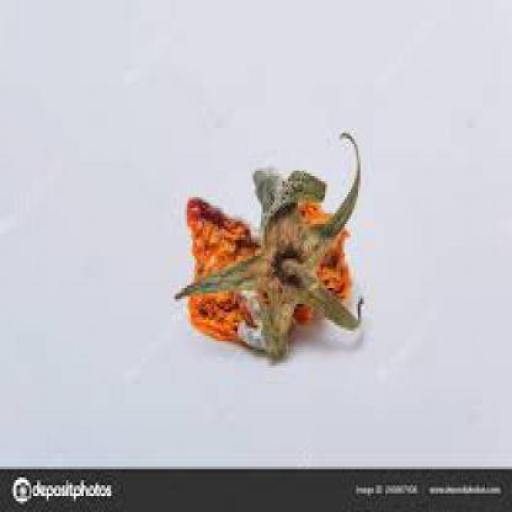biodegradable: (171, 128, 362, 358), (181, 194, 273, 350)
